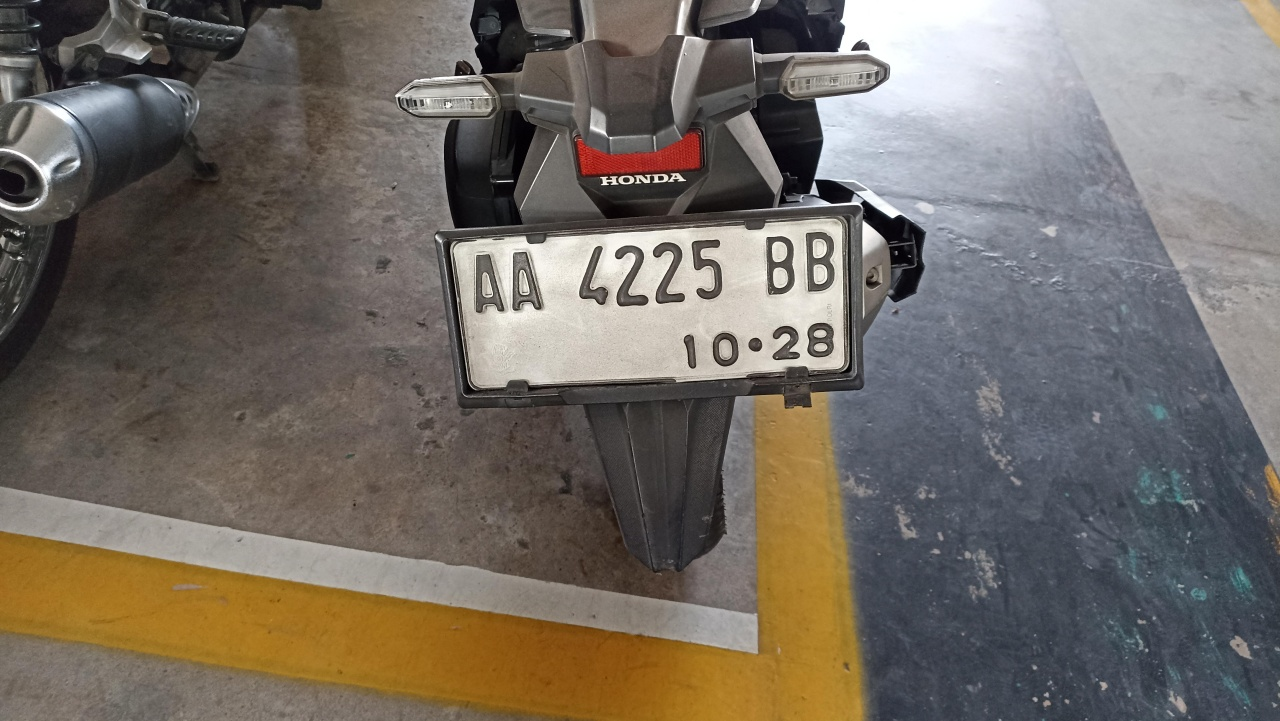plate: (446, 207, 859, 404)
